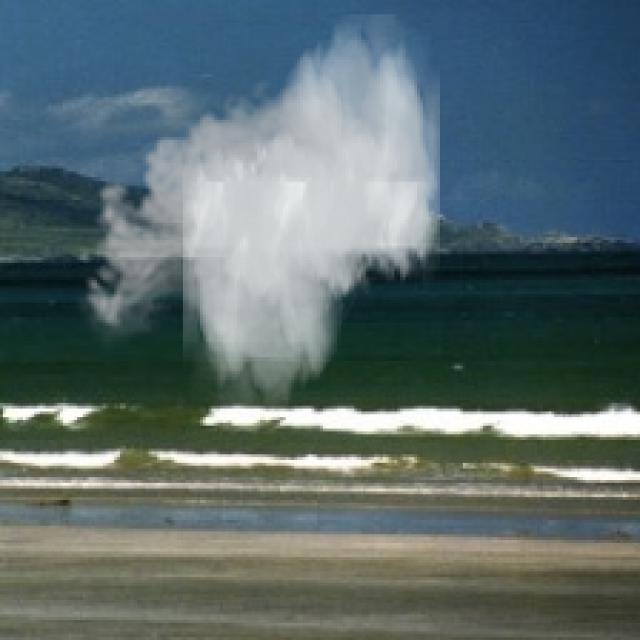Smoke: (74, 14, 440, 414)
